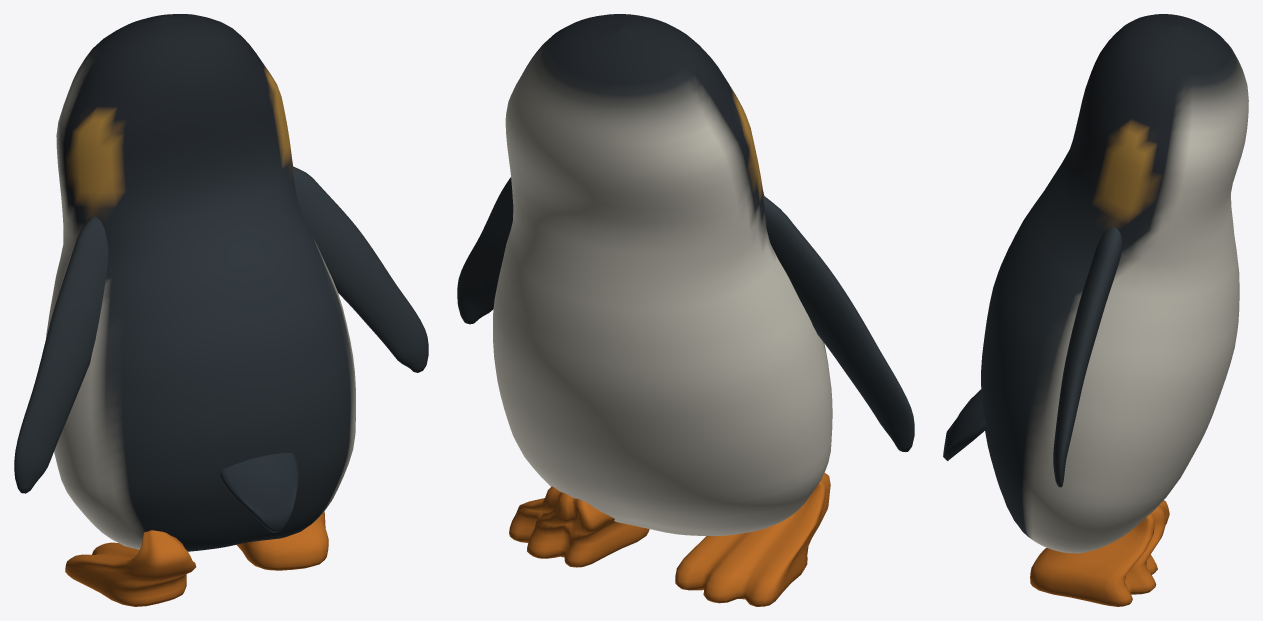
File: candidate.glb
3 views of the same model, side by side, from view 1: azimuth 30°, elevation 25°; view 2: azimuth 150°, elevation 25°; view 3: azimuth 270°, elevation 25° (orthographic). The views are drawn at different scales.
Visible parts, largest first — view 1: RearBlockout; view 2: RearBlockout; view 3: RearBlockout.
Boxes of the visible parts, x1,y1,x2,y2 form: RearBlockout: (14,14,428,606); RearBlockout: (457,14,914,606); RearBlockout: (943,14,1248,606).
Size of the model in its own units: 1.42 by 1.69 by 0.8989.
